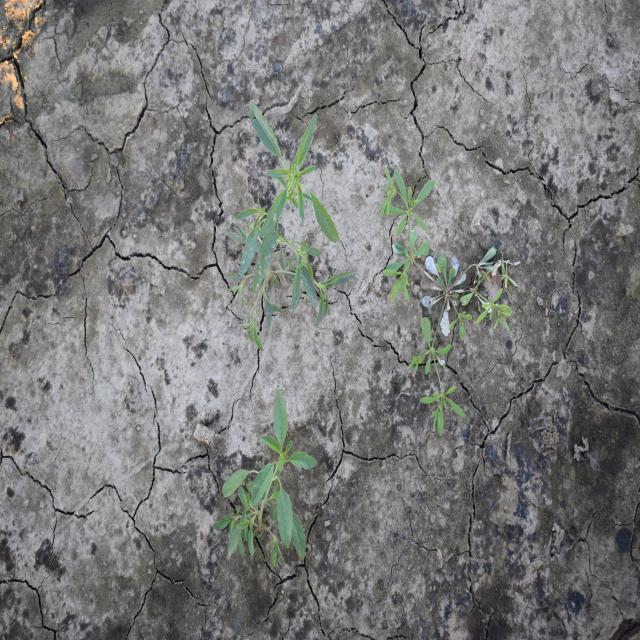Carpetweed: (378, 165, 522, 438)
Waterhemp: (222, 98, 358, 352), (211, 386, 319, 571)
